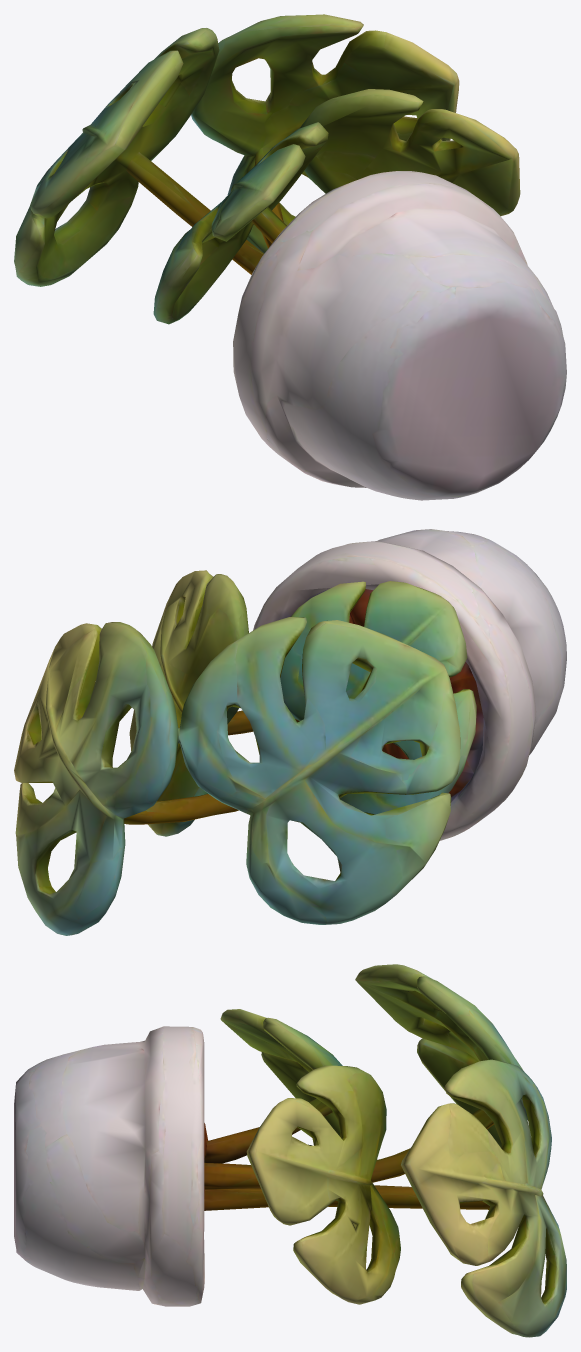
3 views of the same model, one above another, from view 1: azimuth 30°, elevation 25°; view 2: azimuth 150°, elevation 25°; view 3: azimuth 270°, elevation 25° (orthographic). The views are drawn at different scales.
Parts seen in each view (by area): view 1: material; view 2: material; view 3: material.
Part boxes in pixels (x1=…): material: x1=14, y1=14, x2=566, y2=500; material: x1=14, y1=529, x2=566, y2=935; material: x1=14, y1=964, x2=566, y2=1337.
Size of the model in its own units: 0.7775 by 0.5898 by 1.
1 material, 1 textured.
